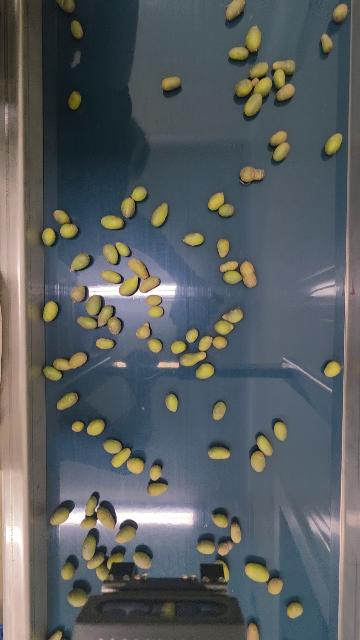Baby Potato: (242, 92, 264, 118), (245, 561, 270, 583), (239, 164, 266, 184), (244, 25, 263, 53), (224, 0, 248, 22), (179, 350, 209, 367), (239, 260, 257, 288), (234, 77, 258, 98), (151, 201, 169, 228), (111, 446, 132, 469), (324, 131, 344, 155), (128, 257, 150, 278), (56, 391, 79, 411), (96, 506, 115, 530), (119, 275, 139, 297), (137, 275, 160, 294), (115, 524, 136, 544), (67, 588, 88, 608), (50, 505, 70, 526), (70, 252, 91, 272), (248, 60, 270, 79), (272, 141, 291, 163), (96, 304, 114, 327), (102, 242, 120, 265), (85, 294, 103, 317), (81, 534, 97, 559), (100, 214, 125, 230), (272, 59, 297, 75), (275, 83, 296, 102), (42, 300, 59, 323), (250, 450, 267, 473), (195, 361, 215, 380), (255, 75, 273, 96), (256, 434, 273, 456), (222, 307, 244, 324), (133, 550, 152, 569), (332, 2, 349, 23), (214, 318, 235, 335), (120, 197, 136, 219), (228, 45, 250, 61), (160, 75, 182, 91), (208, 445, 231, 460), (69, 351, 88, 369), (324, 359, 342, 378), (87, 418, 105, 437), (43, 365, 63, 382), (216, 237, 231, 259), (183, 231, 205, 246), (267, 576, 284, 595), (269, 129, 288, 146), (100, 270, 123, 284), (59, 223, 79, 239), (208, 191, 224, 211), (273, 420, 288, 441), (272, 68, 287, 89), (212, 400, 227, 421), (67, 89, 82, 110), (127, 456, 144, 474), (286, 601, 303, 619), (86, 552, 104, 569), (223, 269, 242, 285), (103, 438, 122, 454), (61, 561, 76, 581), (69, 19, 84, 39), (77, 315, 97, 330), (320, 33, 334, 54), (147, 482, 168, 496), (70, 284, 86, 302), (217, 559, 229, 583), (41, 227, 56, 246), (55, 0, 76, 13), (219, 259, 240, 272), (198, 334, 214, 351), (211, 512, 228, 528), (197, 539, 215, 554), (108, 316, 122, 335), (230, 521, 242, 543), (165, 393, 178, 413), (217, 540, 233, 556), (147, 337, 163, 353), (136, 322, 151, 339), (170, 339, 187, 354), (53, 209, 70, 224), (217, 203, 234, 218), (246, 622, 260, 640), (95, 337, 114, 350), (86, 494, 97, 516), (132, 185, 147, 201), (212, 334, 228, 349), (80, 516, 97, 530), (53, 357, 70, 371), (146, 305, 164, 318), (149, 464, 162, 482), (185, 327, 199, 343), (109, 550, 125, 563), (116, 241, 129, 257), (96, 565, 109, 581), (145, 294, 162, 306), (71, 420, 84, 433), (48, 629, 63, 640)
